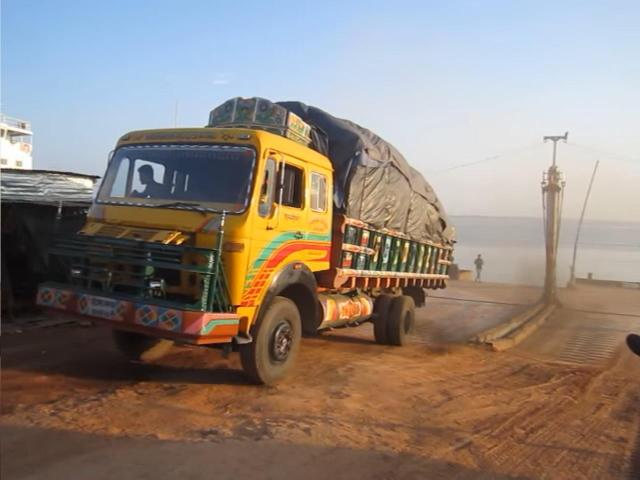truck: (51, 71, 450, 388)
